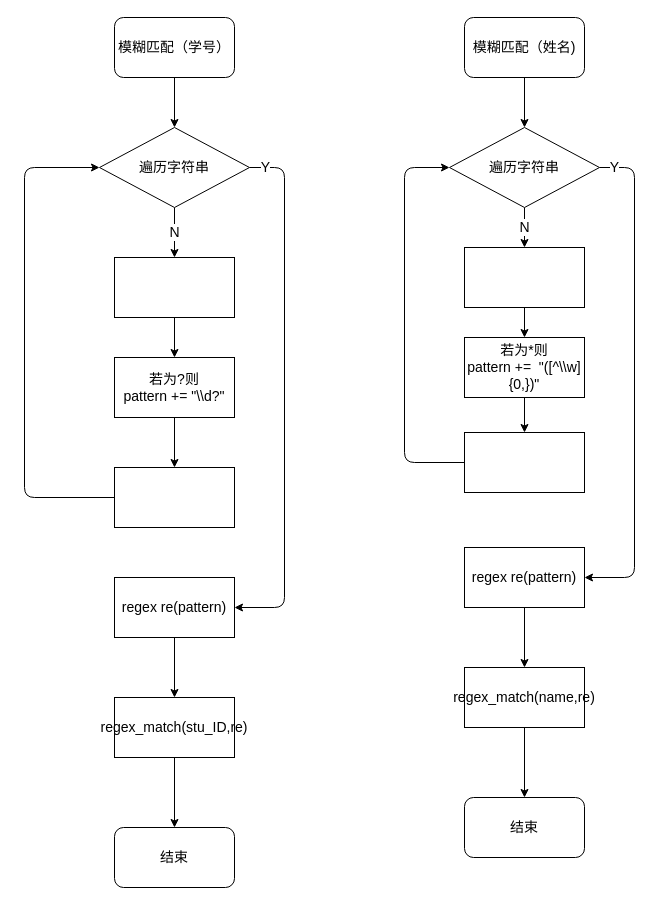
This 660x905 diagram has some shape labels left out. The shapes that lost their labels are listed below. From the top down, each one's centre as x and y in pixels, then its label:
[174,287]: 若为0:9则pattern+=c
[524,277]: 若为?则 pattern += "([^\\w]{3})"
[524,462]: 否则 pattern += c
[174,497]: 若为*则 pattern += "\\d*"
